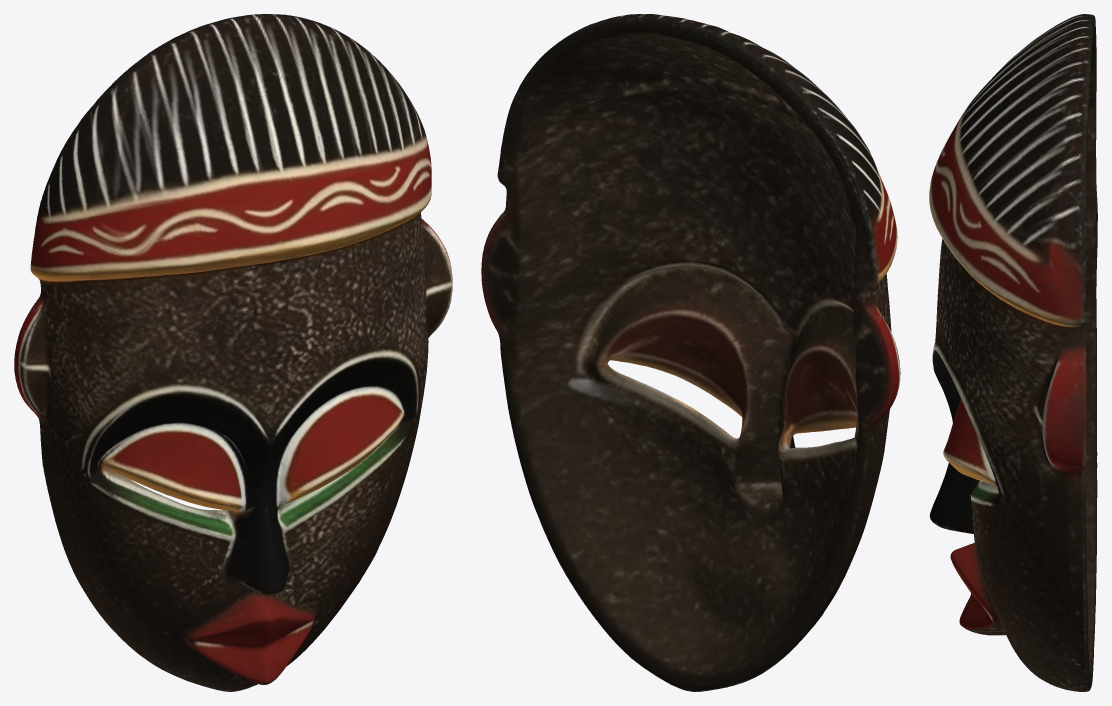
The model's file is african_tribal_mask_jpeg_fallback.glb.
3 renders of one model, left to right at view 1: azimuth 30°, elevation 25°; view 2: azimuth 150°, elevation 25°; view 3: azimuth 270°, elevation 25°, orthographic. The views are drawn at different scales.
Visible parts, largest first — view 1: Meshy_AI_African_Tribal_Mask_0916132242_texture.001; view 2: Meshy_AI_African_Tribal_Mask_0916132242_texture.001; view 3: Meshy_AI_African_Tribal_Mask_0916132242_texture.001.
Part boxes in pixels (x1=…): Meshy_AI_African_Tribal_Mask_0916132242_texture.001: x1=14, y1=14, x2=452, y2=691; Meshy_AI_African_Tribal_Mask_0916132242_texture.001: x1=481, y1=14, x2=900, y2=691; Meshy_AI_African_Tribal_Mask_0916132242_texture.001: x1=929, y1=14, x2=1097, y2=691.
Size of the model in its own units: 0.907 by 1.38 by 0.325.
1 material, 1 textured.
